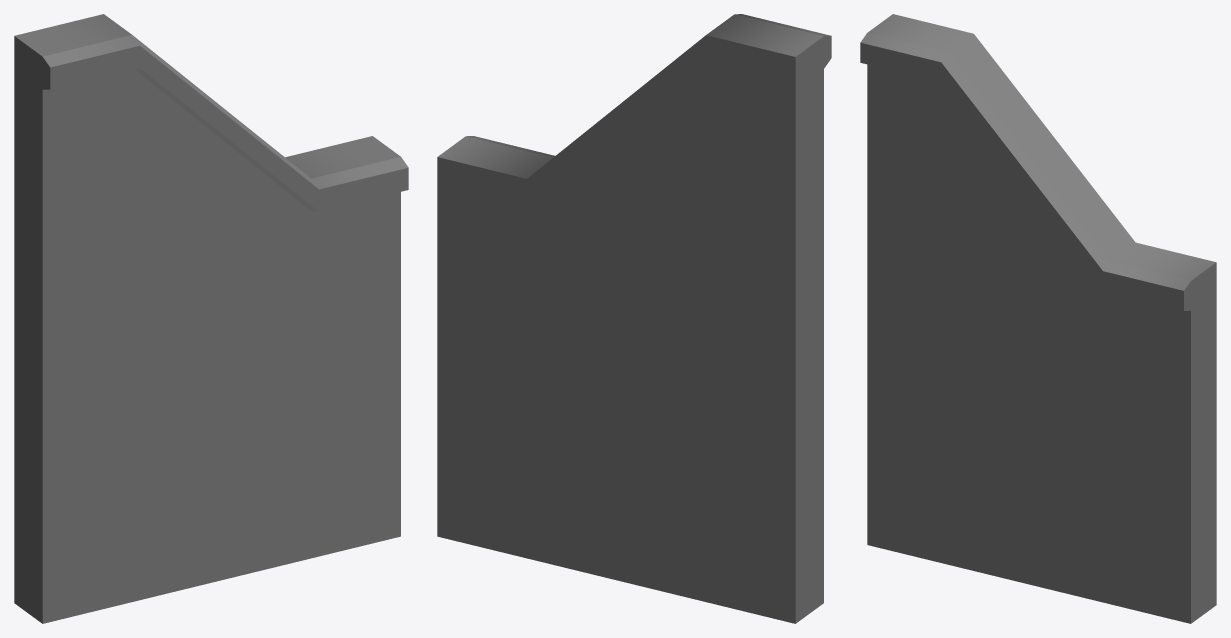
Rendered from Stone Wall 1 U 2 L.fbx.
3 views of the same model, side by side, from view 1: azimuth 30°, elevation 25°; view 2: azimuth 150°, elevation 25°; view 3: azimuth 330°, elevation 25° (orthographic). The views are drawn at different scales.
Visible parts, largest first — view 1: Stone_Wall_1_U_2_L; view 2: Stone_Wall_1_U_2_L; view 3: Stone_Wall_1_U_2_L.
Boxes of the visible parts, left/top/right/bottom form: Stone_Wall_1_U_2_L: left=14, top=14, right=408, bottom=623; Stone_Wall_1_U_2_L: left=437, top=14, right=831, bottom=623; Stone_Wall_1_U_2_L: left=860, top=14, right=1216, bottom=623.
Size of the model in its own units: 4 by 6.05 by 0.6983.
